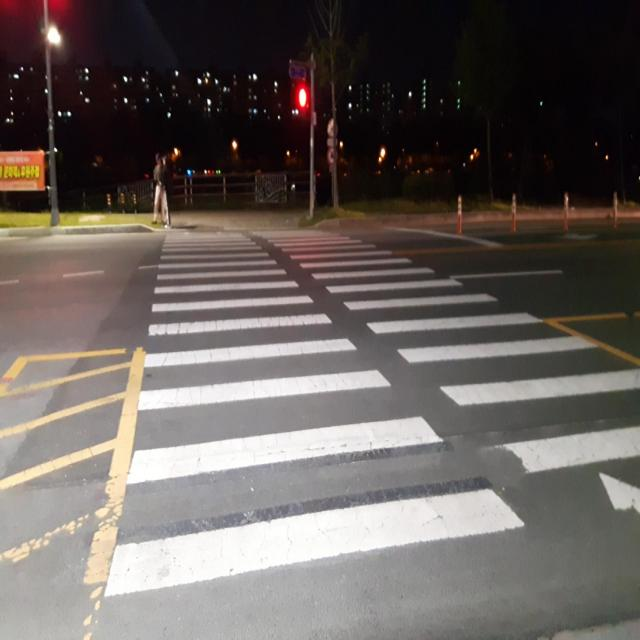빨간불: (295, 81, 309, 119)
횡단보도: (98, 223, 640, 604)
